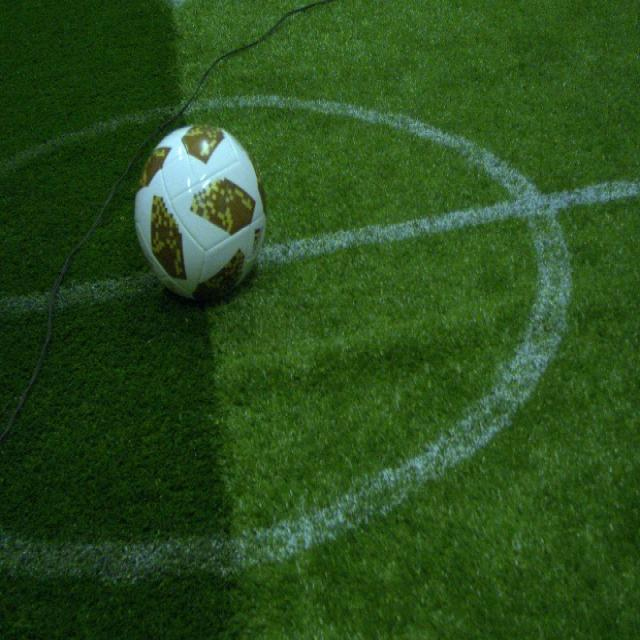ball: (133, 124, 266, 308)
